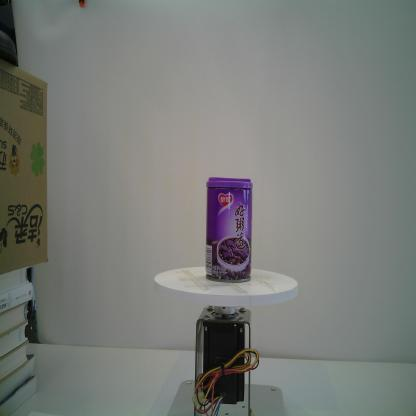Canned Food: (204, 177, 252, 284)
